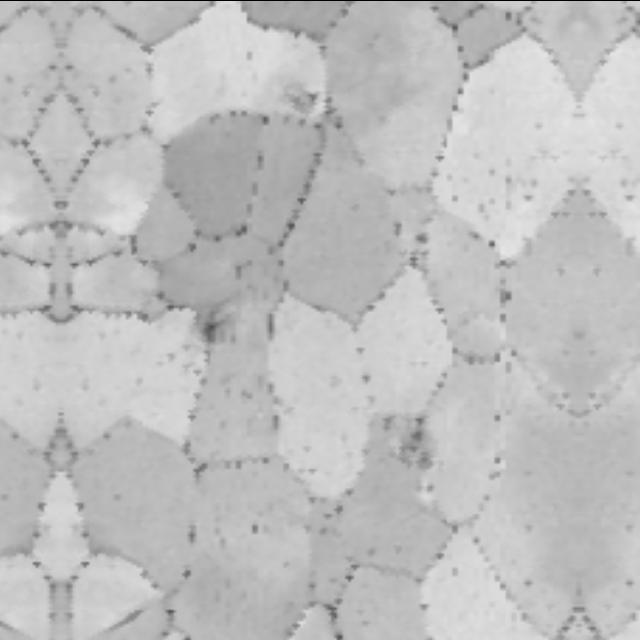good_void: (196, 296, 240, 345)
